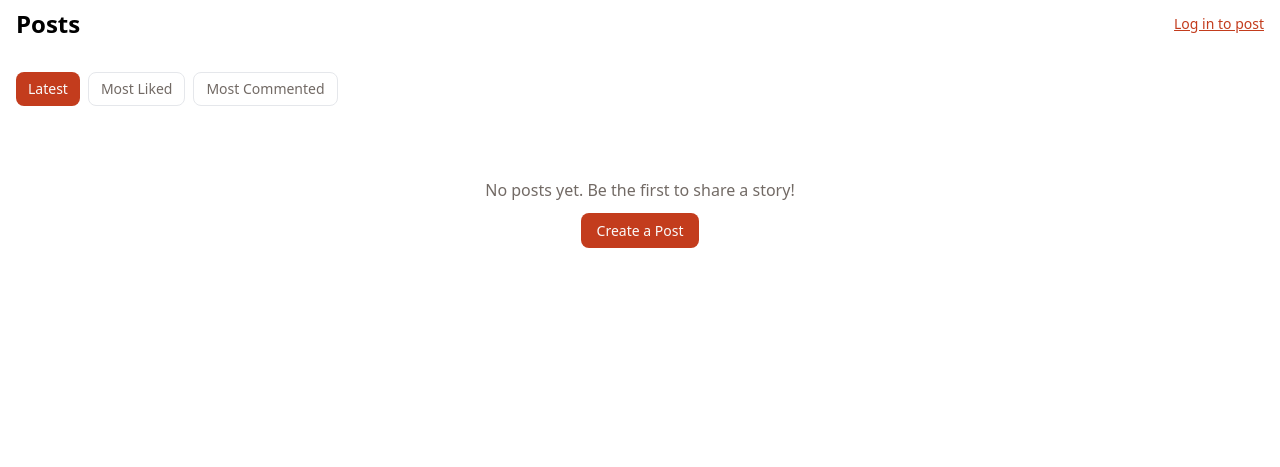
Test case: PostsPage › auto-loads the next offset page for count sorts when the sentinel becomes visible
Click the button "Most Liked". click: [137, 89]
box: [88,72,185,106]
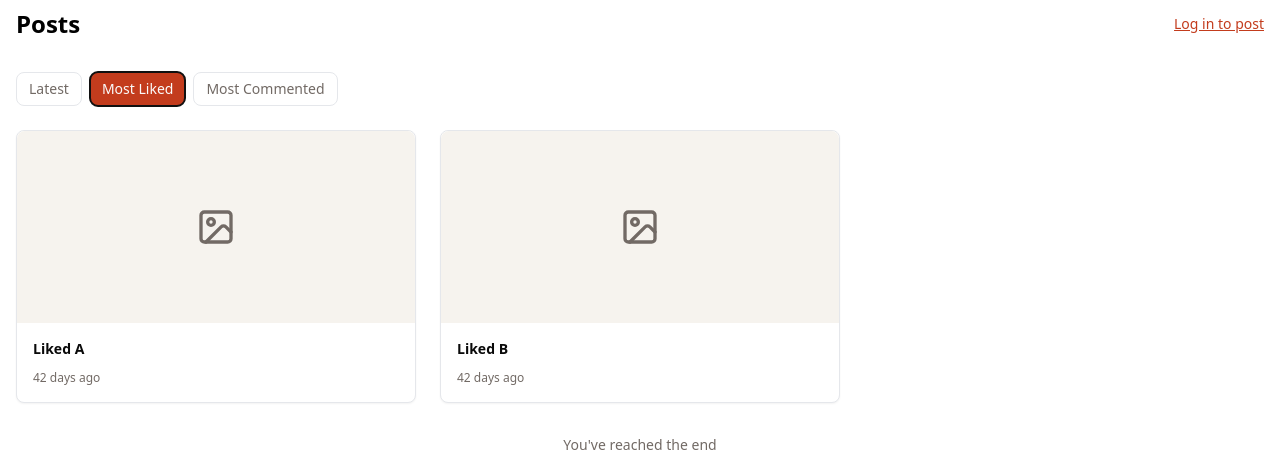
Now the heading "Liked B" is shown, box [457,339,508,358]
Now the heading "Liked A" is shown, box [33,339,84,358]
